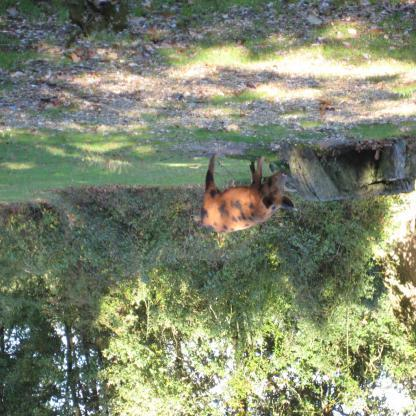boar: (197, 152, 295, 235)
